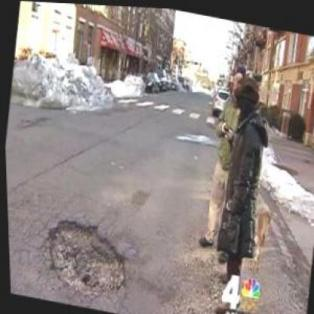Hueco: (37, 211, 132, 300)
